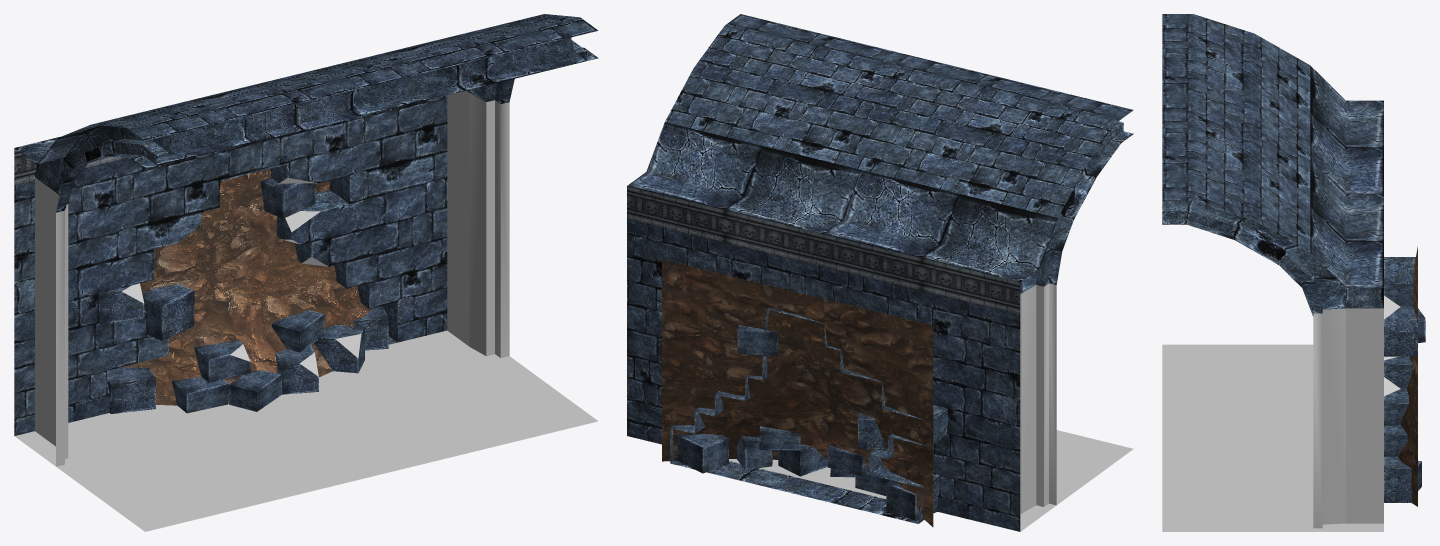
File: Wall4Update.FBX
The picture shows the model from 3 angles, left to right: view 1: azimuth 30°, elevation 25°; view 2: azimuth 150°, elevation 25°; view 3: azimuth 270°, elevation 25°; orthographic projection. The views are drawn at different scales.
Visible parts, largest first — view 1: Object02; view 2: Object02; view 3: Object02.
Boxes of the visible parts, x1=… form: Object02: x1=14, y1=14, x2=598, y2=531; Object02: x1=627, y1=14, x2=1133, y2=531; Object02: x1=1162, y1=14, x2=1425, y2=531.
Bounding box in the file's own units: 91.85 × 76.22 × 54.55.
